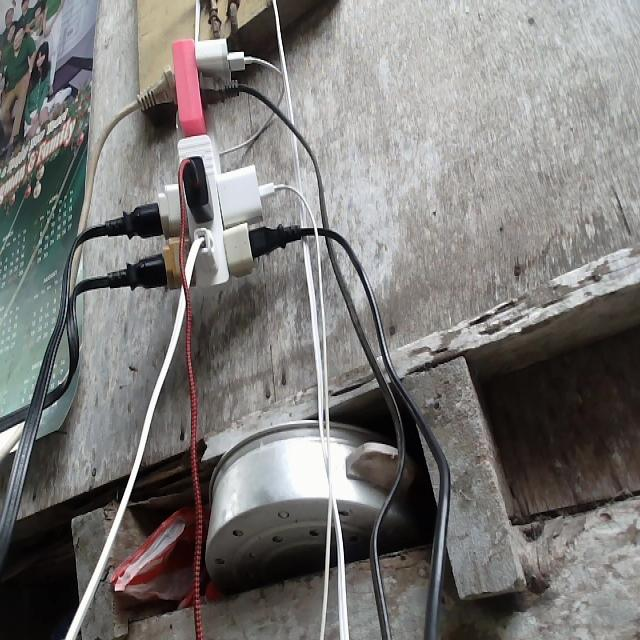-: (128, 37, 272, 288)
